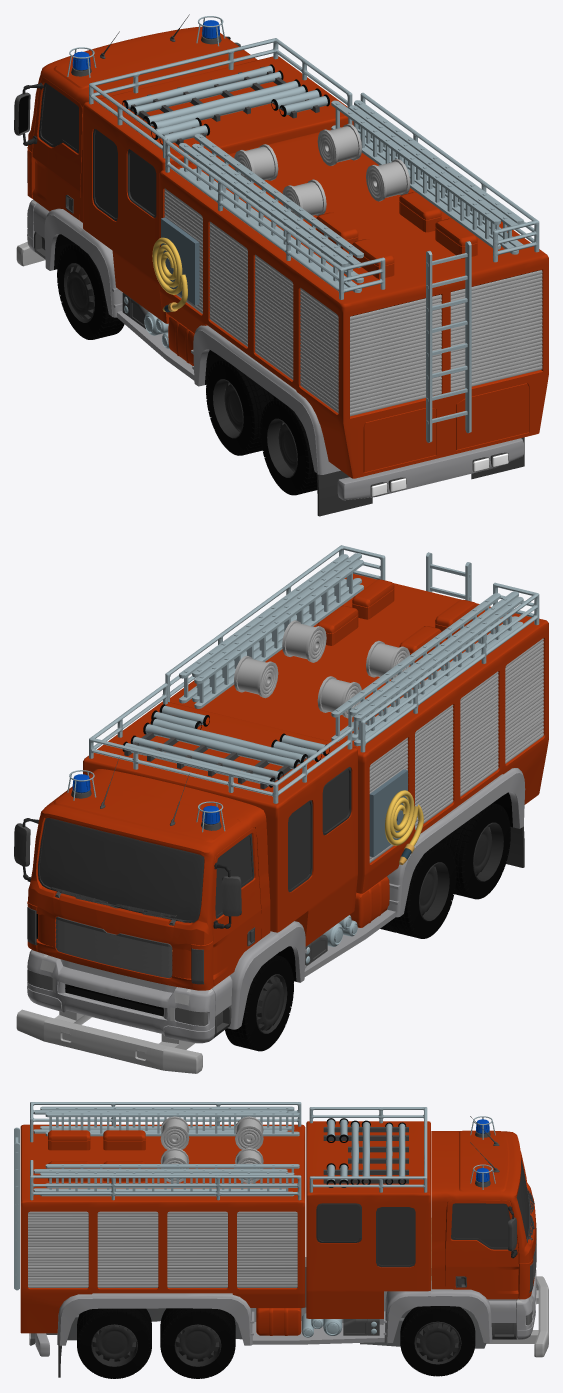
Rendered from firetruck-with-hose.glb.
3 views of the same model, one above another, from view 1: azimuth 30°, elevation 25°; view 2: azimuth 150°, elevation 25°; view 3: azimuth 270°, elevation 25° (orthographic). The views are drawn at different scales.
Parts seen in each view (by area): view 1: Object_32, Object_46, Object_26, Object_18, Object_23, Object_31, Object_8, Object_44, Object_14, Object_30, Object_59, Object_22 (+11 smaller); view 2: Object_32, Object_18, Object_26, Object_31, Object_44, Object_46, Object_8, Object_23, Object_15, Object_54, Object_59, Object_64 (+12 smaller); view 3: Object_32, Object_46, Object_18, Object_26, Object_31, Object_44, Object_23, Object_8, Object_59, Object_54, Object_15, Object_69 (+11 smaller).
Part boxes in pixels (<box>): Object_32: <box>83,56,548,478</box>; Object_46: <box>164,188,542,416</box>; Object_26: <box>165,92,539,299</box>; Object_18: <box>27,26,477,365</box>; Object_23: <box>67,16,467,313</box>; Object_31: <box>27,199,340,474</box>; Object_8: <box>16,123,410,266</box>; Object_44: <box>41,85,155,218</box>; Object_14: <box>33,203,523,500</box>; Object_30: <box>426,241,471,442</box>; Object_59: <box>206,359,277,455</box>; Object_22: <box>39,83,524,516</box>; Object_32: <box>83,573,548,946</box>; Object_18: <box>27,579,477,990</box>; Object_26: <box>165,545,539,752</box>; Object_31: <box>27,768,525,1043</box>; Object_44: <box>40,769,348,920</box>; Object_46: <box>369,638,543,862</box>; Object_8: <box>16,620,409,1073</box>; Object_23: <box>67,586,471,963</box>; Object_15: <box>55,715,327,1037</box>; Object_54: <box>439,803,510,899</box>; Object_59: <box>380,842,456,938</box>; Object_64: <box>225,955,293,1051</box>; Object_32: <box>20,1121,430,1333</box>; Object_46: <box>28,1211,297,1287</box>; Object_18: <box>48,1130,536,1335</box>; Object_26: <box>30,1102,301,1200</box>; Object_31: <box>57,1270,536,1345</box>; Object_44: <box>318,1161,529,1265</box>; Object_23: <box>15,1107,495,1334</box>; Object_8: <box>160,1116,548,1357</box>; Object_59: <box>160,1308,235,1378</box>; Object_54: <box>77,1308,151,1378</box>; Object_15: <box>323,1116,536,1339</box>; Object_69: <box>400,1306,475,1376</box>.
Size of the model in its own units: 7.34 by 8.2 by 18.76.
